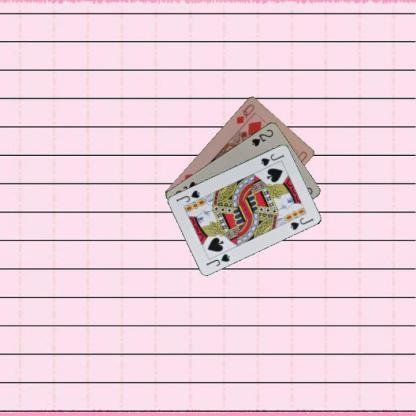2s: (249, 126, 274, 148)
Js: (258, 151, 286, 167), (203, 251, 231, 267)
Qd: (233, 101, 256, 125)
